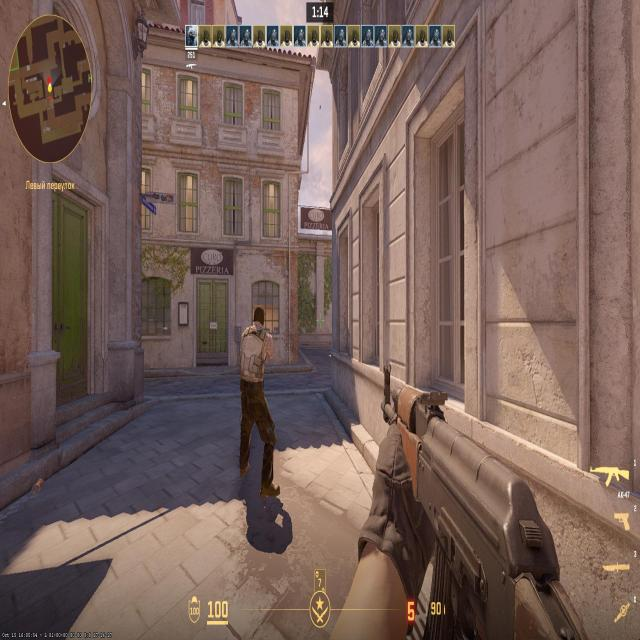T: (246, 312, 267, 451)
T_heat: (250, 317, 263, 337)
